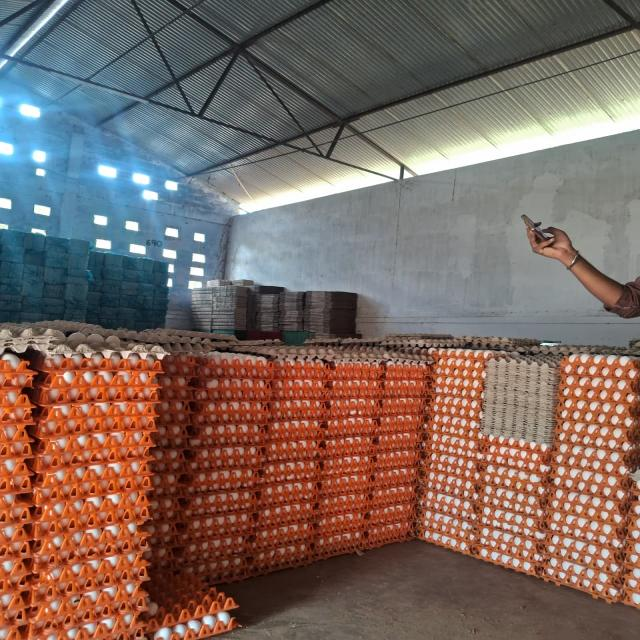egg_tray: (29, 354, 159, 638), (545, 354, 639, 600), (183, 353, 272, 581), (250, 358, 329, 574), (31, 492, 147, 632), (417, 349, 493, 552), (33, 356, 159, 474), (33, 492, 147, 616), (315, 361, 383, 558), (29, 526, 145, 640), (553, 354, 639, 501), (366, 360, 430, 546), (185, 422, 265, 570), (145, 354, 197, 580), (145, 354, 195, 580), (473, 436, 551, 574), (251, 428, 319, 574), (189, 354, 272, 472), (0, 352, 34, 637), (189, 354, 272, 468), (31, 416, 150, 494), (29, 558, 144, 638), (315, 467, 416, 558), (422, 350, 489, 480), (315, 418, 378, 556), (315, 418, 377, 556), (365, 406, 424, 548), (553, 380, 638, 477), (265, 358, 329, 484), (32, 354, 161, 416), (556, 360, 639, 454), (13, 322, 229, 358), (367, 416, 425, 546), (31, 414, 152, 476), (181, 488, 257, 582), (544, 512, 623, 601), (322, 362, 383, 476), (547, 488, 626, 574), (259, 421, 323, 526), (195, 353, 273, 439), (557, 354, 639, 435), (429, 350, 492, 454), (483, 355, 558, 442), (249, 480, 317, 575), (141, 574, 238, 640), (251, 478, 317, 574), (31, 354, 157, 404), (193, 353, 273, 430), (0, 321, 167, 357), (477, 436, 550, 516), (35, 492, 148, 543), (0, 353, 34, 508), (34, 522, 146, 568), (182, 511, 254, 582), (33, 461, 151, 504), (315, 468, 371, 558), (185, 414, 267, 474), (377, 361, 430, 452), (0, 353, 34, 493), (314, 473, 369, 558), (417, 472, 475, 552), (183, 511, 254, 574), (37, 406, 154, 444), (545, 532, 625, 586), (420, 416, 479, 486), (185, 468, 261, 522), (144, 473, 185, 570), (430, 356, 485, 428), (155, 354, 195, 449), (197, 354, 273, 402), (560, 354, 639, 400), (248, 522, 315, 576), (515, 361, 559, 442), (417, 472, 476, 532), (418, 490, 475, 552), (472, 526, 545, 574), (551, 458, 631, 501), (548, 487, 628, 530), (144, 484, 184, 570), (543, 560, 623, 602), (417, 458, 477, 514), (143, 494, 183, 578), (315, 494, 366, 559), (430, 349, 495, 399), (328, 361, 384, 419), (365, 482, 414, 548), (0, 521, 29, 632), (529, 536, 618, 572), (256, 480, 319, 530), (556, 417, 639, 454), (373, 415, 423, 474), (186, 437, 264, 473), (146, 610, 239, 640), (373, 415, 424, 469), (381, 361, 430, 416), (381, 362, 430, 416), (271, 358, 331, 402), (247, 537, 313, 576), (425, 414, 480, 460), (185, 488, 258, 522), (419, 508, 474, 553), (152, 408, 189, 474), (154, 388, 192, 451), (33, 619, 145, 640), (0, 418, 30, 495), (365, 502, 415, 548), (327, 355, 383, 396), (323, 434, 375, 477), (189, 422, 266, 450), (371, 464, 419, 508), (198, 352, 273, 380), (331, 360, 383, 400), (193, 400, 269, 427), (329, 358, 384, 395), (0, 323, 63, 354), (623, 489, 639, 608), (329, 346, 431, 363), (384, 360, 430, 396), (317, 491, 370, 521), (272, 356, 332, 382), (321, 416, 383, 441), (314, 530, 363, 560), (0, 352, 34, 395), (319, 472, 371, 500), (265, 420, 331, 442), (269, 398, 327, 422), (159, 352, 196, 388), (159, 353, 196, 388), (325, 378, 383, 399), (277, 420, 312, 444), (0, 396, 31, 418), (187, 554, 209, 573), (198, 453, 219, 470), (551, 494, 573, 510), (216, 490, 245, 501), (597, 436, 619, 450), (45, 411, 61, 428), (523, 505, 537, 524), (281, 502, 300, 516), (273, 464, 299, 473), (577, 496, 591, 510), (262, 484, 281, 494), (589, 356, 612, 364), (515, 477, 535, 486), (547, 561, 559, 576), (500, 554, 516, 565), (267, 546, 288, 554), (413, 384, 423, 400), (265, 531, 281, 540), (364, 440, 375, 452), (295, 446, 307, 457), (385, 418, 394, 432), (336, 522, 348, 532), (0, 498, 12, 508), (152, 474, 169, 481), (345, 388, 359, 396), (597, 466, 615, 472), (102, 496, 115, 504), (86, 624, 95, 634), (159, 454, 171, 461), (609, 494, 626, 498), (93, 608, 104, 614), (347, 390, 358, 396), (537, 486, 545, 494), (276, 558, 285, 565), (125, 530, 135, 536), (528, 495, 533, 506), (233, 424, 244, 429), (47, 416, 56, 422), (140, 481, 149, 487), (284, 448, 293, 454), (343, 476, 347, 488), (196, 496, 208, 500), (421, 482, 429, 488), (311, 385, 317, 393), (602, 458, 609, 464), (231, 492, 241, 496), (389, 470, 399, 474), (133, 465, 139, 471), (615, 431, 622, 436), (0, 329, 2, 346), (69, 417, 77, 421), (527, 464, 532, 470), (269, 423, 275, 428), (571, 438, 578, 442), (285, 528, 289, 535), (274, 386, 287, 388), (561, 437, 566, 442), (631, 384, 637, 388), (239, 504, 245, 508), (552, 478, 558, 482), (472, 352, 483, 354), (166, 466, 171, 470), (521, 537, 526, 541), (535, 472, 539, 477), (425, 534, 429, 539), (209, 418, 214, 422), (390, 494, 399, 496), (583, 584, 589, 587), (128, 523, 134, 526), (617, 358, 623, 361), (323, 454, 331, 456), (537, 533, 541, 537), (211, 432, 215, 436), (385, 380, 387, 388), (595, 381, 599, 385), (536, 565, 539, 570), (518, 463, 521, 468), (207, 465, 212, 468), (405, 369, 408, 374), (257, 558, 264, 560), (340, 432, 347, 434), (7, 515, 10, 519), (253, 370, 257, 373), (86, 613, 90, 616), (21, 506, 27, 508), (260, 550, 263, 554), (265, 531, 269, 534), (461, 501, 465, 504), (49, 552, 52, 556), (227, 425, 229, 430), (274, 566, 279, 568), (354, 444, 357, 447), (92, 565, 95, 568), (211, 426, 214, 429), (296, 520, 299, 523), (301, 514, 304, 517), (330, 421, 333, 424), (559, 514, 561, 518), (597, 498, 599, 502), (519, 470, 521, 474), (189, 554, 193, 556), (99, 472, 101, 476), (465, 546, 467, 550), (110, 561, 114, 563), (72, 564, 76, 566), (561, 582, 569, 583), (337, 432, 341, 434), (8, 638, 12, 640), (611, 494, 615, 496), (576, 449, 580, 451), (401, 408, 405, 410), (289, 460, 296, 461), (327, 505, 329, 508), (0, 504, 3, 506), (497, 559, 499, 562), (510, 464, 513, 466), (441, 463, 443, 466), (150, 356, 152, 359), (81, 616, 84, 618), (203, 428, 205, 431), (176, 476, 179, 478), (140, 416, 146, 417), (618, 552, 621, 554), (398, 371, 400, 374), (261, 542, 266, 543), (299, 483, 304, 484), (522, 558, 524, 560), (493, 550, 495, 552), (501, 544, 503, 546), (492, 532, 494, 534), (561, 492, 565, 493), (237, 575, 241, 576), (460, 536, 462, 538), (193, 468, 195, 470), (105, 622, 107, 624), (178, 484, 179, 488), (254, 558, 256, 560), (365, 479, 367, 481), (524, 527, 528, 528), (49, 556, 51, 558), (561, 450, 563, 452), (82, 625, 85, 626), (229, 429, 232, 430), (276, 507, 279, 508), (387, 364, 388, 367), (394, 478, 395, 480), (332, 449, 333, 451), (494, 544, 495, 546), (0, 400, 1, 402), (269, 426, 270, 428), (154, 360, 156, 361), (273, 429, 274, 431), (624, 358, 625, 360), (171, 462, 172, 463), (492, 474, 493, 475), (80, 418, 81, 419), (162, 472, 163, 472), (99, 624, 99, 626), (521, 563, 521, 564), (502, 550, 504, 550), (603, 503, 603, 503), (383, 465, 383, 467), (228, 576, 234, 576), (76, 470, 77, 470), (99, 470, 99, 470), (52, 467, 54, 467), (229, 354, 231, 354), (57, 521, 59, 521), (4, 510, 6, 510), (425, 348, 425, 348), (559, 576, 563, 576), (76, 423, 77, 423), (16, 639, 17, 639), (603, 458, 603, 459), (291, 550, 294, 550), (278, 528, 282, 528), (280, 512, 281, 512), (265, 510, 268, 510), (290, 483, 292, 483), (385, 472, 386, 472), (303, 470, 303, 470), (336, 434, 337, 434), (626, 488, 627, 488)
